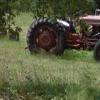Tractor: (20, 4, 97, 64)
